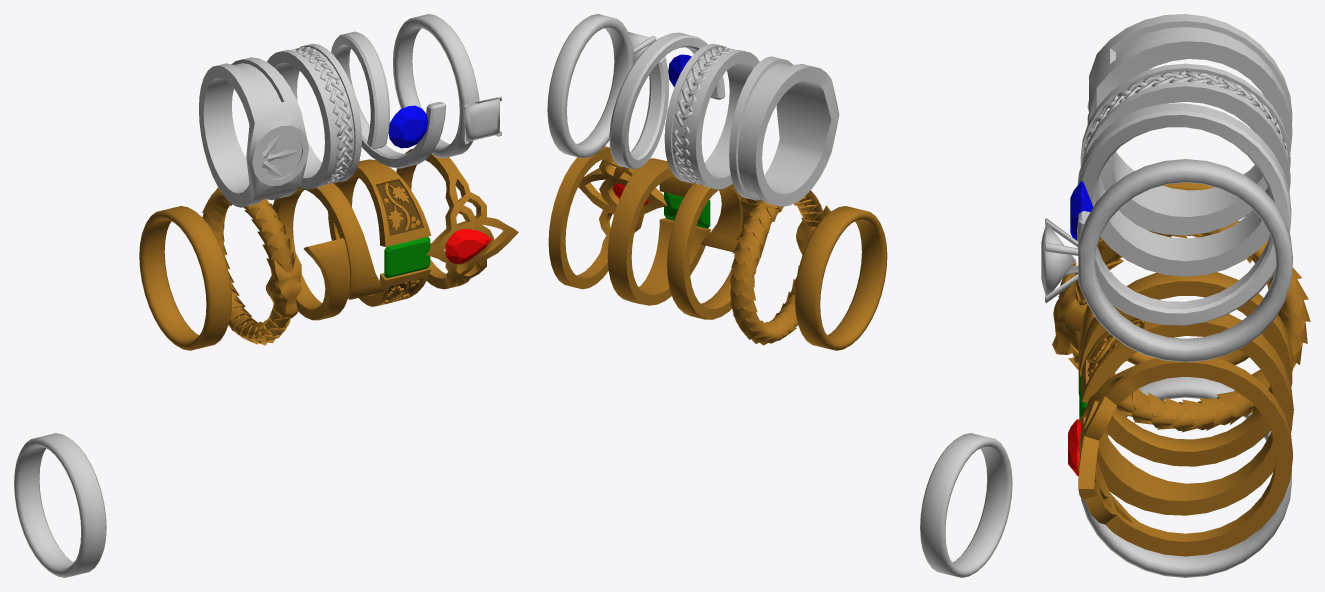
Rendered from rings.obj.
The picture shows the model from 3 angles, left to right: view 1: azimuth 30°, elevation 25°; view 2: azimuth 150°, elevation 25°; view 3: azimuth 270°, elevation 25°; orthographic projection. The views are drawn at different scales.
Parts seen in each view (by area): view 1: obj9, obj1, obj2, obj5, obj8, obj7, obj4, obj10, obj3, obj6; view 2: obj9, obj8, obj2, obj1, obj5, obj4, obj7, obj6, obj3, obj10; view 3: obj9, obj3, obj8, obj6, obj4, obj5, obj7, obj10, obj1, obj2.
Part boxes in pixels (x1,y1,x2,y2): obj9: [199, 57, 308, 207]; obj1: [14, 433, 106, 577]; obj2: [139, 206, 231, 350]; obj5: [328, 159, 431, 306]; obj8: [267, 43, 361, 189]; obj7: [273, 183, 384, 320]; obj4: [331, 31, 446, 168]; obj10: [202, 187, 302, 345]; obj3: [393, 14, 501, 158]; obj6: [396, 149, 518, 289]; obj9: [729, 56, 839, 206]; obj8: [664, 43, 759, 189]; obj2: [794, 206, 887, 350]; obj1: [920, 433, 1012, 577]; obj5: [607, 158, 710, 305]; obj4: [609, 32, 725, 169]; obj7: [667, 183, 767, 319]; obj6: [548, 146, 667, 289]; obj3: [547, 14, 656, 158]; obj10: [730, 190, 830, 345]; obj9: [1087, 14, 1292, 235]; obj3: [1041, 159, 1292, 362]; obj8: [1080, 63, 1290, 276]; obj6: [1068, 358, 1292, 556]; obj4: [1070, 103, 1291, 325]; obj5: [1079, 314, 1293, 515]; obj7: [1078, 272, 1292, 466]; obj10: [1052, 220, 1310, 432]; obj1: [1081, 377, 1291, 577]; obj2: [1099, 182, 1264, 376].
Bounding box in the file's own units: 6.94 × 7.01 × 2.51.
